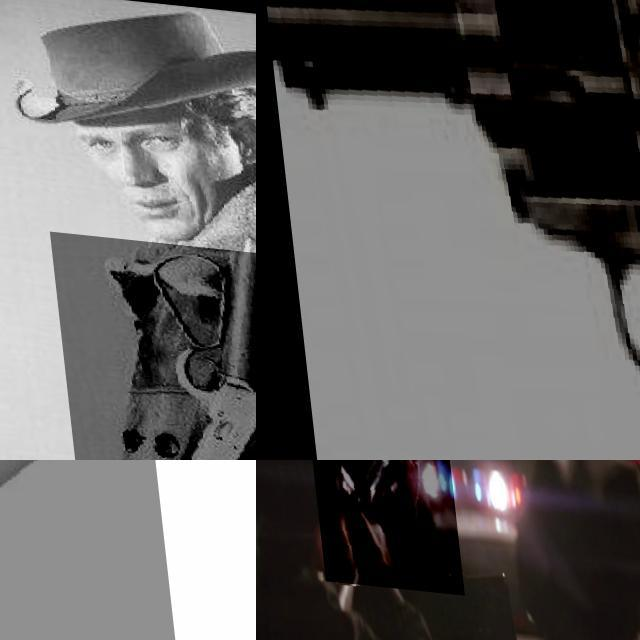-: (0, 460, 228, 640)
gun-knife-thesis - v11 Yolov5 augmented: (256, 0, 640, 460), (44, 228, 256, 460), (299, 460, 457, 589)
